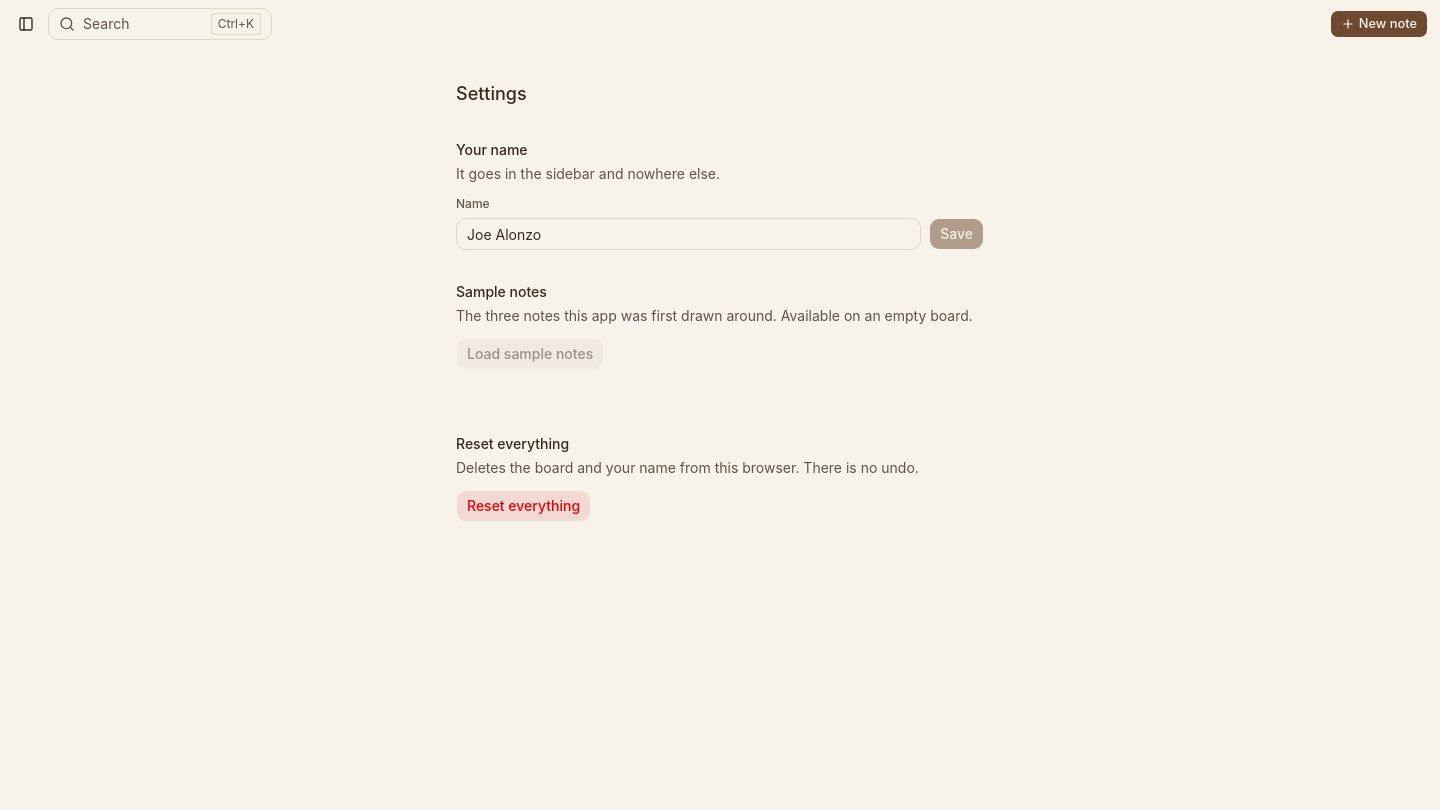
Test: T85 · reset › leaves the intro open over an empty board
Click the button "Reset everything": (524,506) [456,490,591,522]
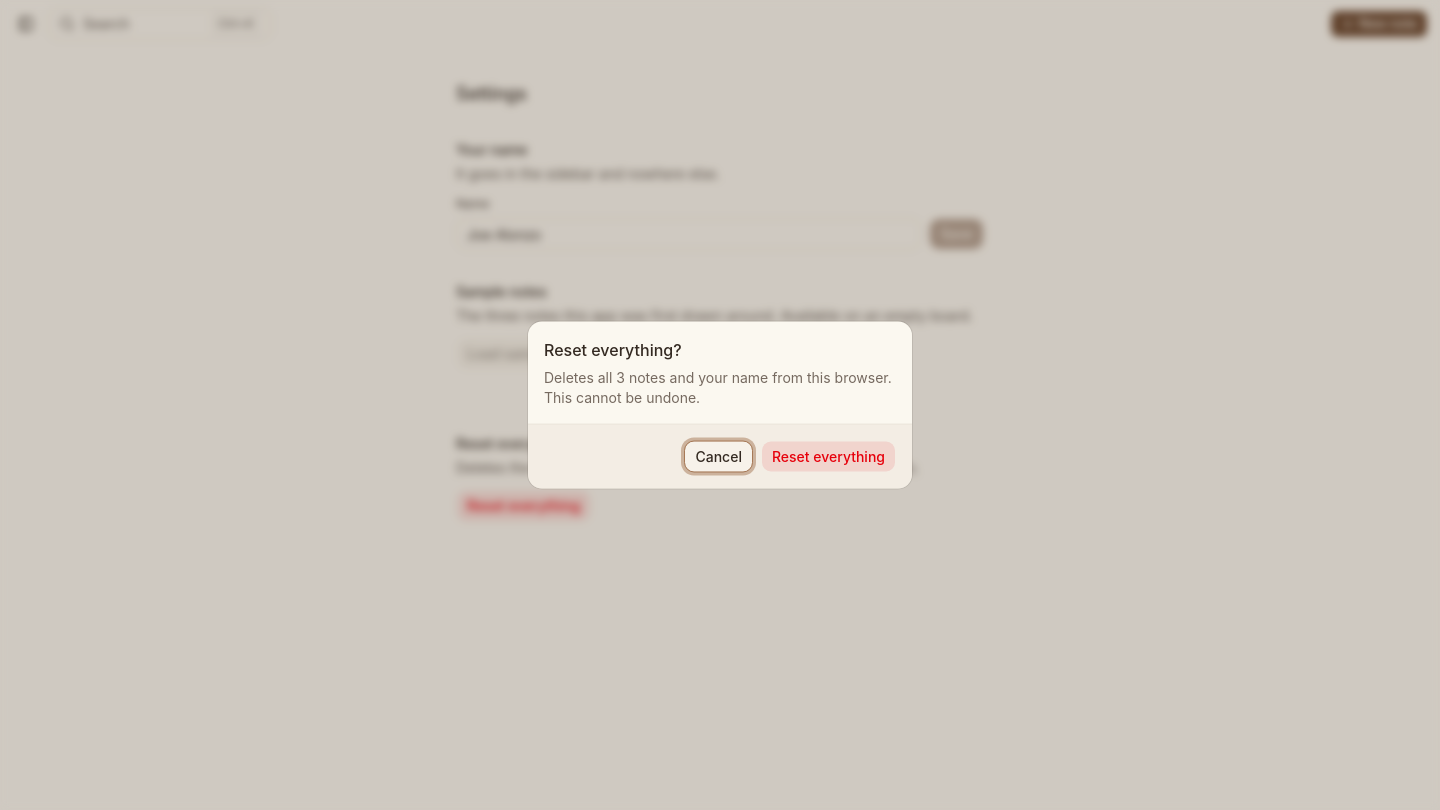
Click the button "Reset everything": (828,456) [761,440,896,472]
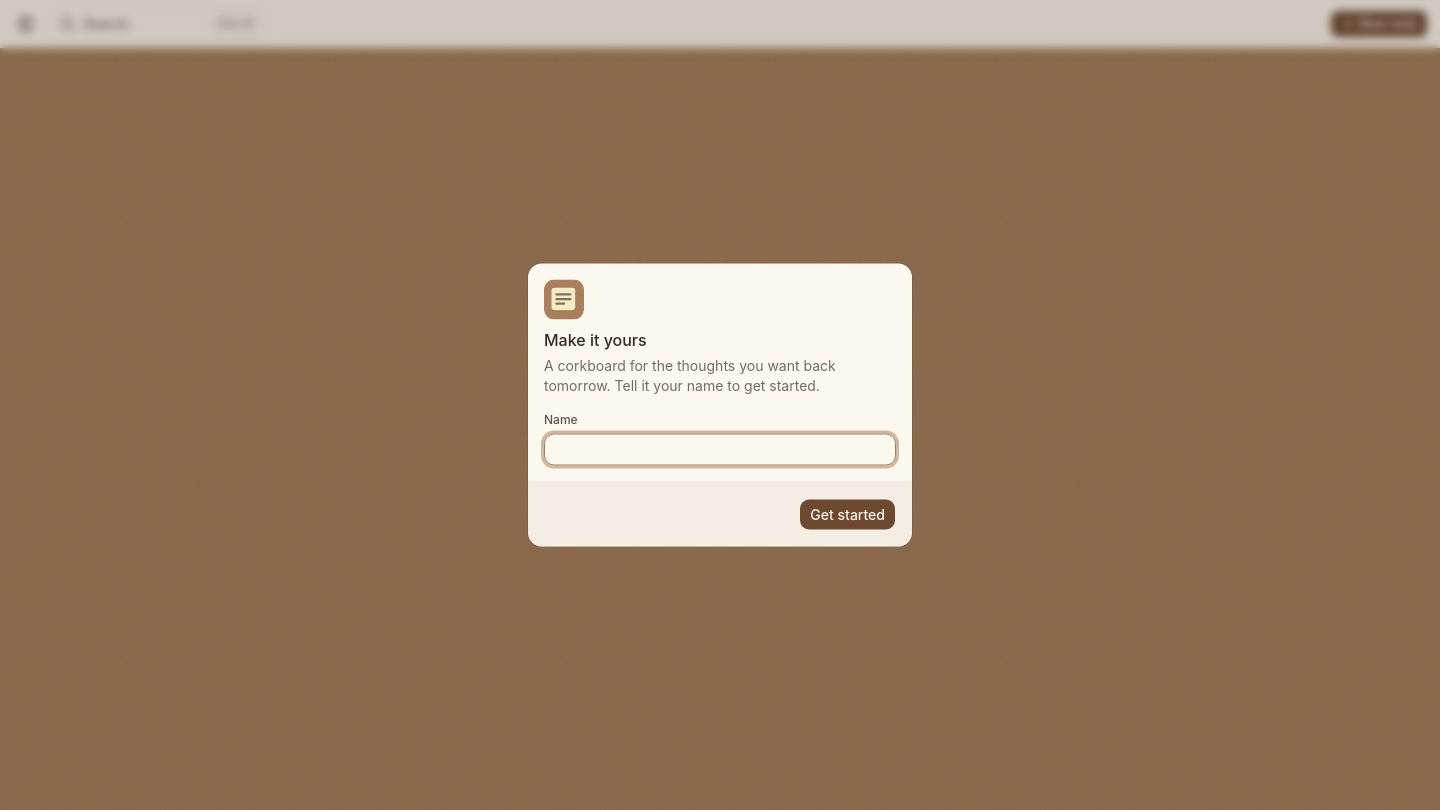
Result: the heading "Make it yours" is shown at [544,330,647,350]
